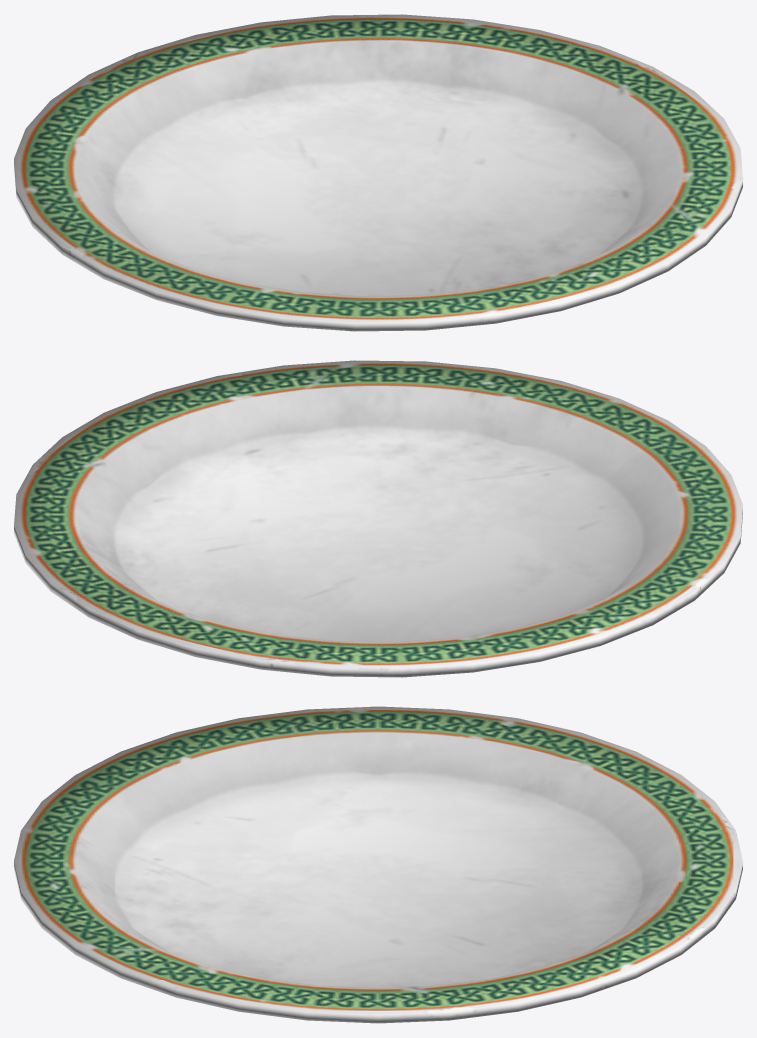
File: sb_obj_indoor006_Plate01.fbx
3 renders of one model, top to bottom at view 1: azimuth 30°, elevation 25°; view 2: azimuth 150°, elevation 25°; view 3: azimuth 270°, elevation 25°, orthographic.
Visible parts, largest first — view 1: Plate1; view 2: Plate1; view 3: Plate1.
Part boxes in pixels (box(x1,y1,x2,y2)): Plate1: box(14, 14, 742, 331); Plate1: box(14, 360, 742, 677); Plate1: box(14, 706, 742, 1023).
Bounding box in the file's own units: 0.3484 × 0.0187 × 0.3484.
